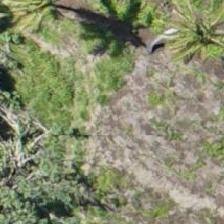coconut_tree: (150, 0, 223, 83)
